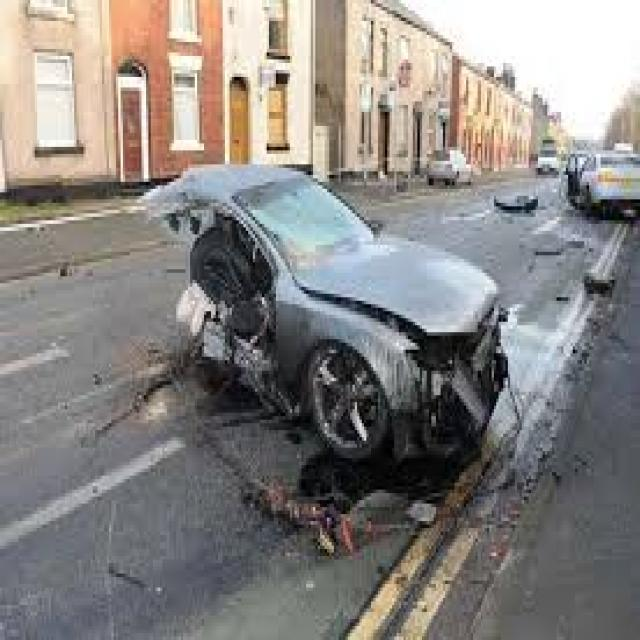accident: (151, 141, 542, 566)
